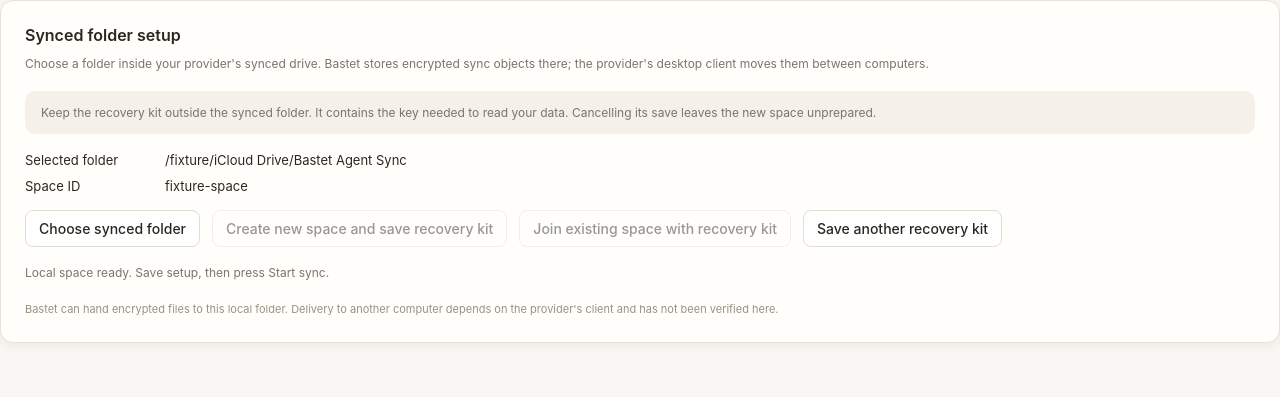
Test: clears stale readiness when a saved proof disappears during refresh
Check: the text "Local space ready. Save setup, then press Start sync." is shown, box [25,265,329,280]
Step 1. Click the button "Save another recovery kit" → (903, 229), box [803,210,1002,247]
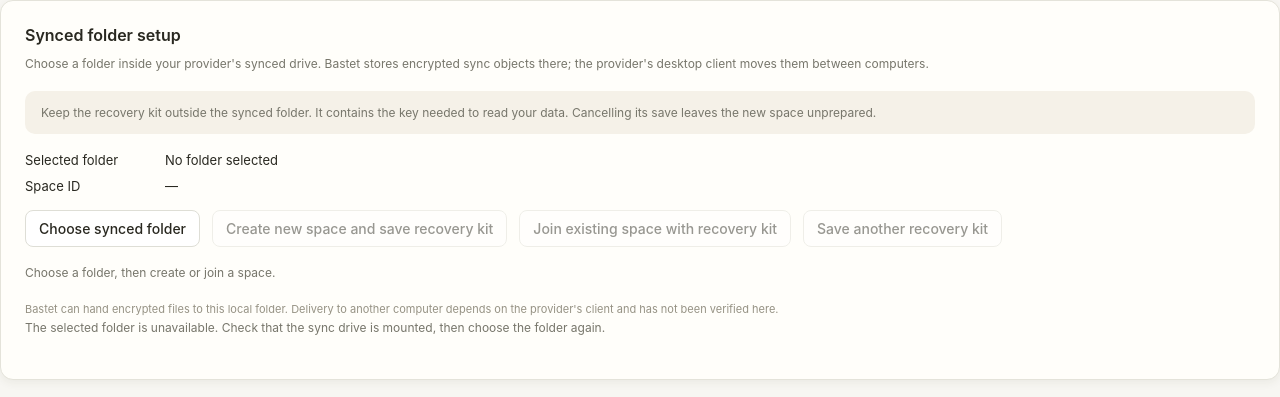
Check: the 2nd message shows "The selected folder is unavailable. Check that the sync drive is mounted, then choose the folder again.", box [25,320,605,335]
Check: the text "Local space ready. Save setup, then press Start sync." is gone
Check: the text "Choose a folder, then create or join a space." is shown, box [25,265,275,280]
